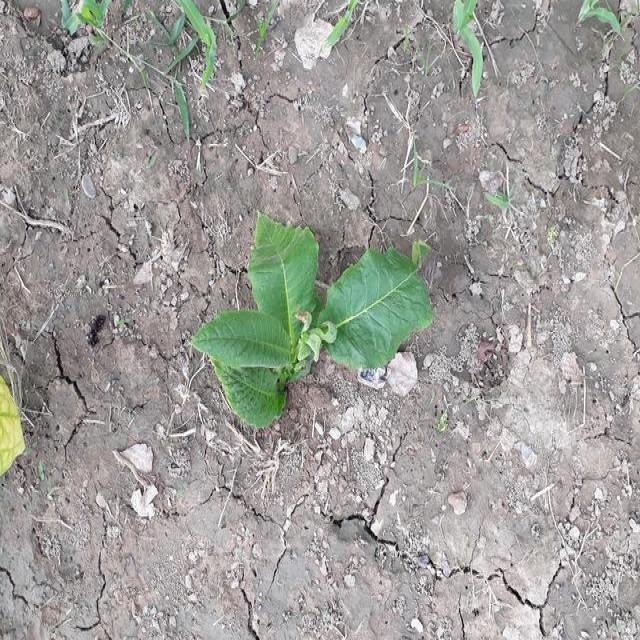crop: (180, 201, 437, 433)
